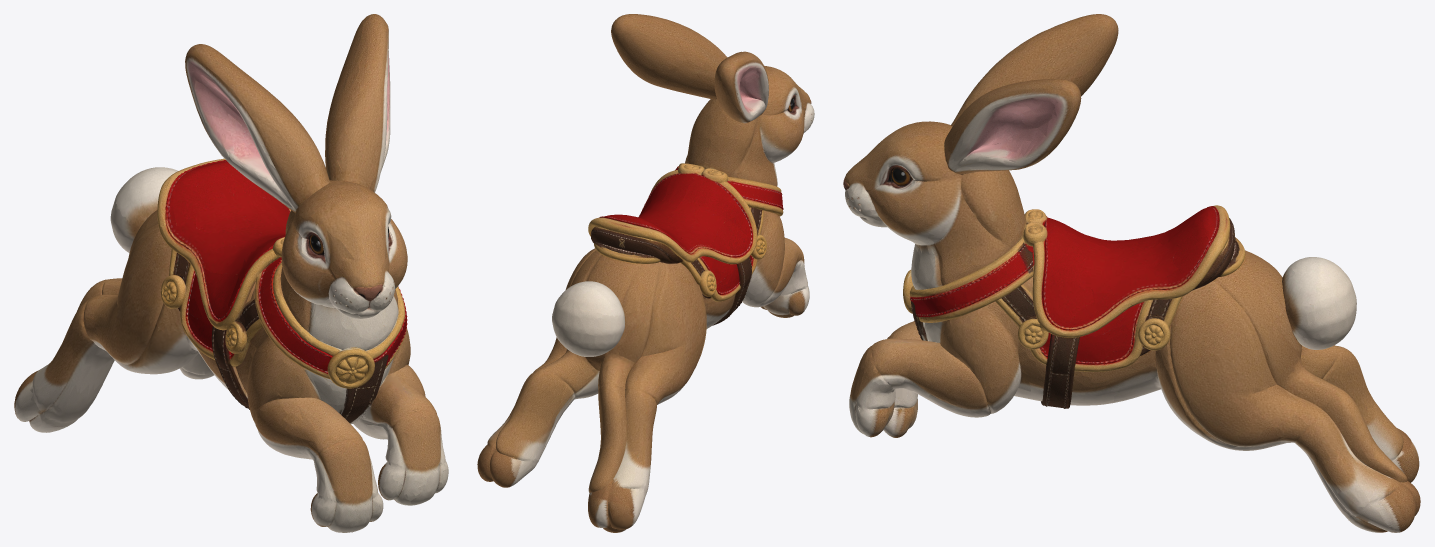
File: rabbit.glb
The picture shows the model from 3 angles, left to right: view 1: azimuth 30°, elevation 25°; view 2: azimuth 150°, elevation 25°; view 3: azimuth 270°, elevation 25°; orthographic projection. The views are drawn at different scales.
Bounding box in the file's own units: 0.7389 × 1.74 × 1.9.
1 material, 1 textured.
